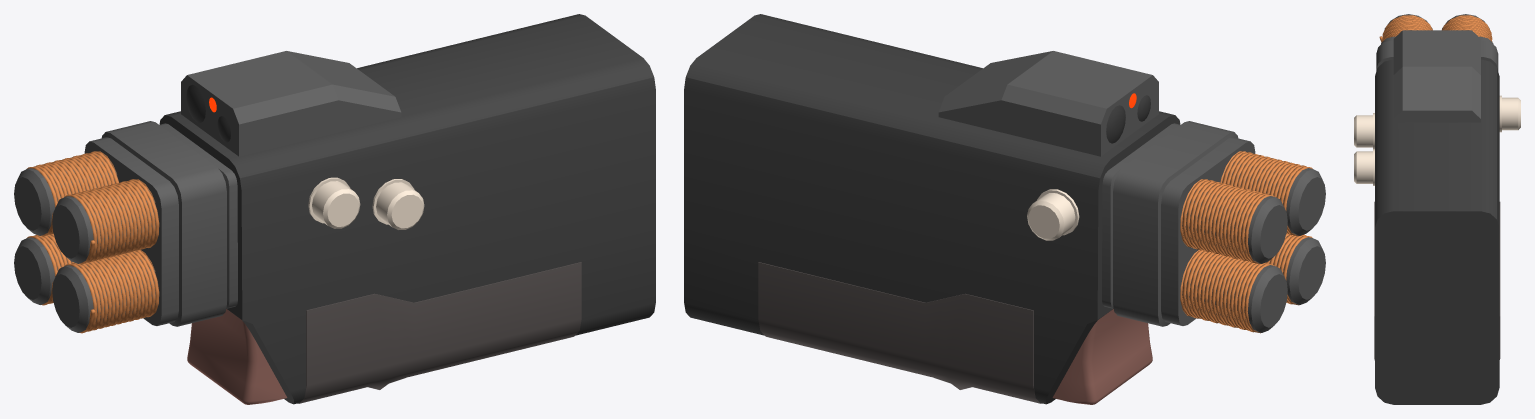
The model's file is empdevice.fbx.
The picture shows the model from 3 angles, left to right: view 1: azimuth 30°, elevation 25°; view 2: azimuth 150°, elevation 25°; view 3: azimuth 270°, elevation 25°; orthographic projection. The views are drawn at different scales.
Visible parts, largest first — view 1: Cube.001, Plane.004, Cube, Cube.004, Cube.002, Plane, Plane.001, Cylinder.001, Cylinder, Plane.003, Cylinder.003, Cylinder.002 (+4 smaller); view 2: Cube.001, Plane.004, Cube, Cube.004, Cube.002, Plane.003, Plane.002, Cylinder.002, Cylinder.003, Plane, Cylinder, Cylinder.001 (+3 smaller); view 3: Cube.001, Cube.004, Cube, Cylinder.007, Plane, Plane.003, Cylinder.008, Cylinder.005, Plane.004.
Boxes of the visible parts, x1,y1,x2,y2 form: Cube.001: (159, 14, 655, 404); Plane.004: (298, 262, 581, 403); Cube: (84, 121, 237, 326); Cube.004: (181, 51, 401, 156); Cube.002: (187, 309, 287, 404); Plane: (65, 179, 159, 264); Plane.001: (65, 249, 159, 333); Cylinder.001: (52, 251, 158, 332); Cylinder: (52, 184, 158, 263); Plane.003: (27, 151, 118, 236); Cylinder.003: (14, 154, 118, 235); Cylinder.002: (14, 237, 71, 304); Cube.001: (684, 14, 1180, 404); Plane.004: (758, 262, 1041, 403); Cube: (1102, 121, 1255, 326); Cube.004: (938, 51, 1158, 156); Cube.002: (1052, 309, 1152, 404); Plane.003: (1180, 179, 1274, 263); Plane.002: (1180, 249, 1274, 333); Cylinder.002: (1182, 252, 1287, 332); Cylinder.003: (1182, 183, 1287, 263); Plane: (1220, 151, 1312, 236); Cylinder: (1222, 155, 1325, 235); Cylinder.001: (1269, 236, 1325, 304); Cube.001: (1375, 59, 1499, 404); Cube.004: (1393, 30, 1480, 122); Cube: (1376, 36, 1498, 71); Cylinder.007: (1499, 95, 1520, 132); Plane: (1379, 15, 1432, 42); Plane.003: (1442, 15, 1492, 41); Cylinder.008: (1354, 149, 1374, 185); Cylinder.005: (1354, 113, 1374, 149); Plane.004: (1374, 201, 1500, 360).
Bounding box in the file's own units: 31.36 × 16.55 × 10.63.
